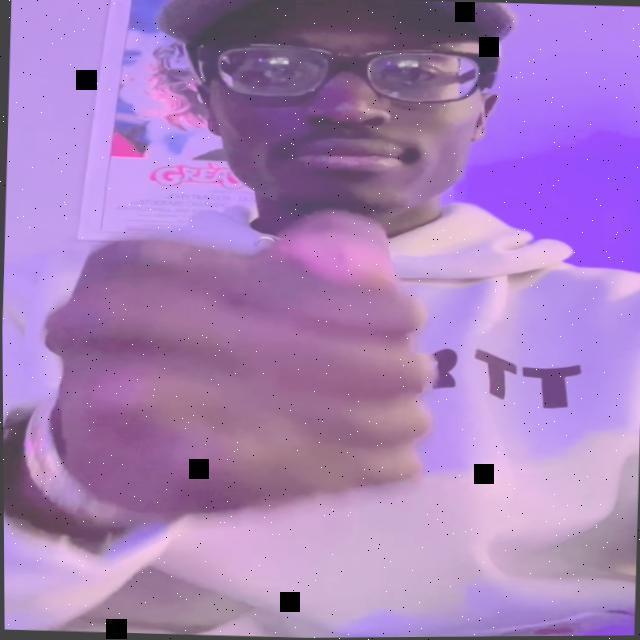Rock: (28, 197, 436, 525)
